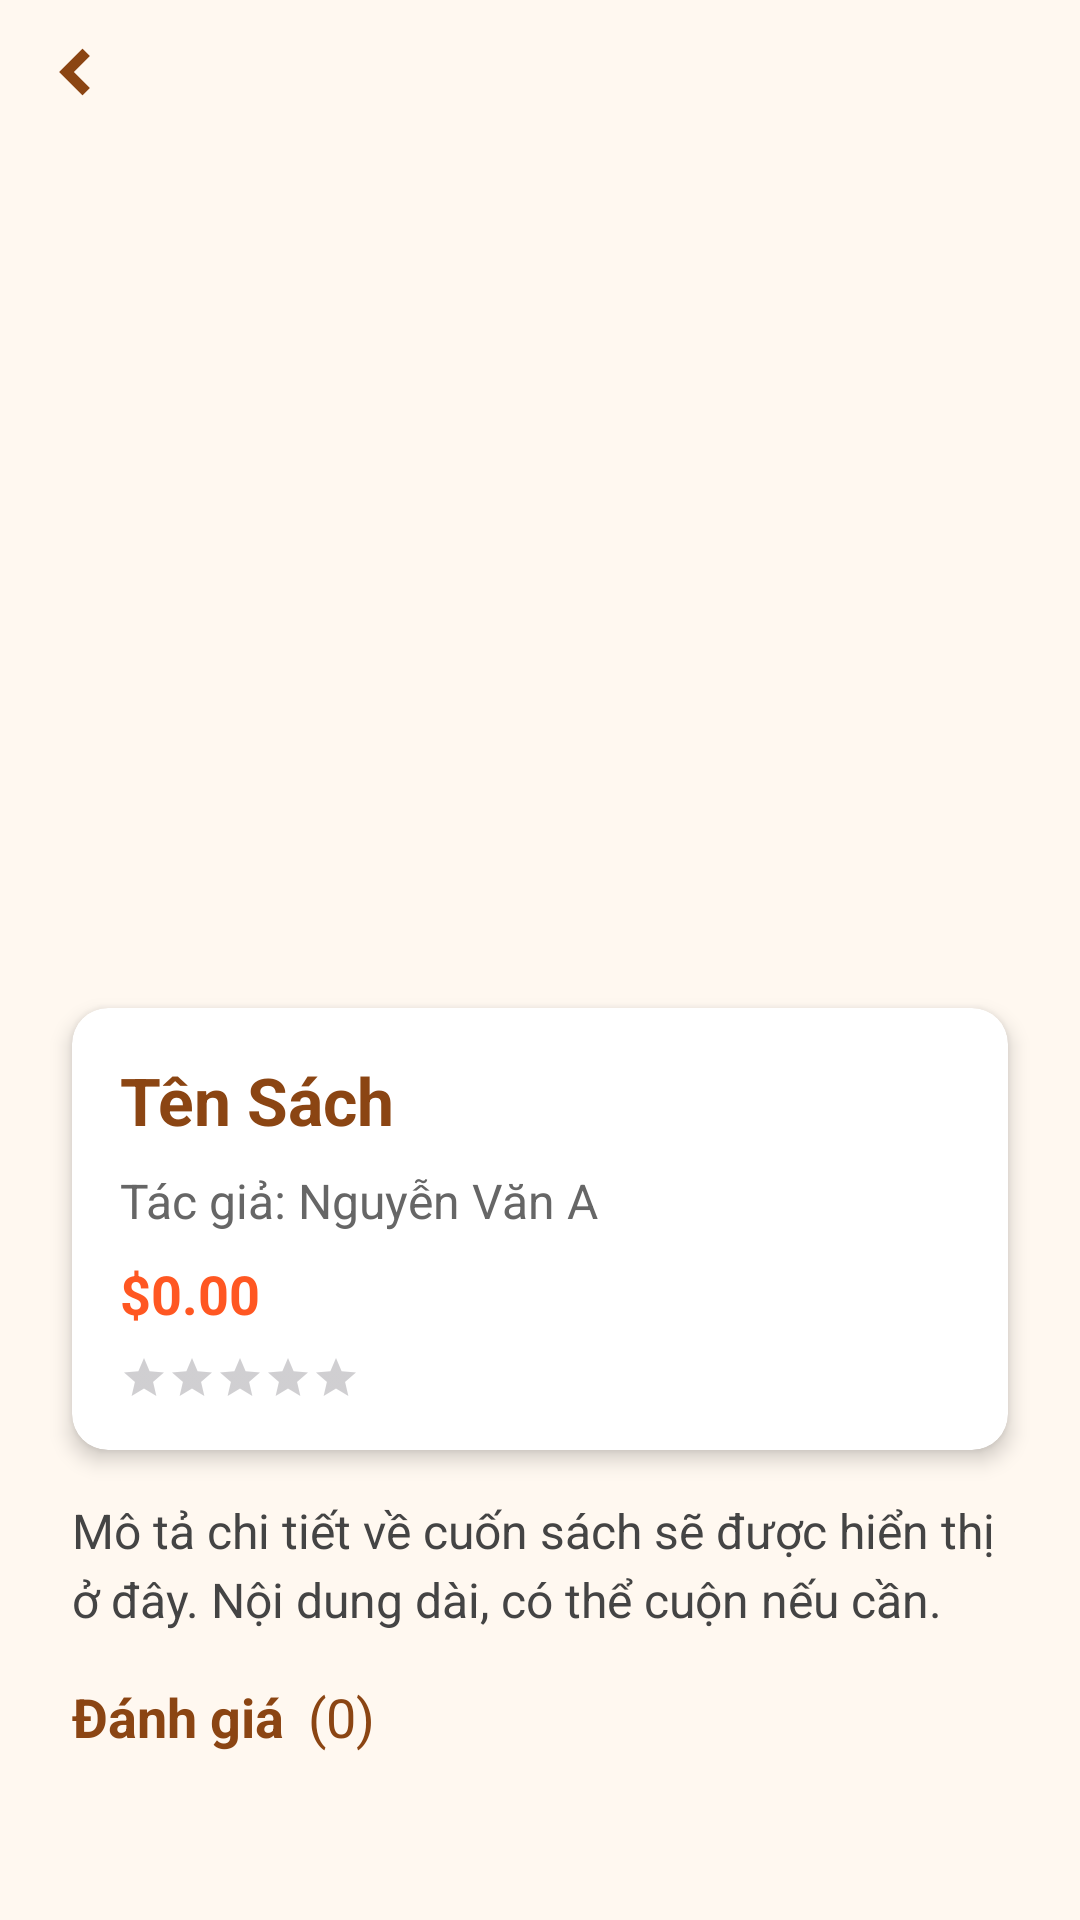

Locate icon controls on the screen. Image size 1080w x 1920h, boxes as (x1, y1, x2, y2).
Back: (59, 48, 90, 96)
